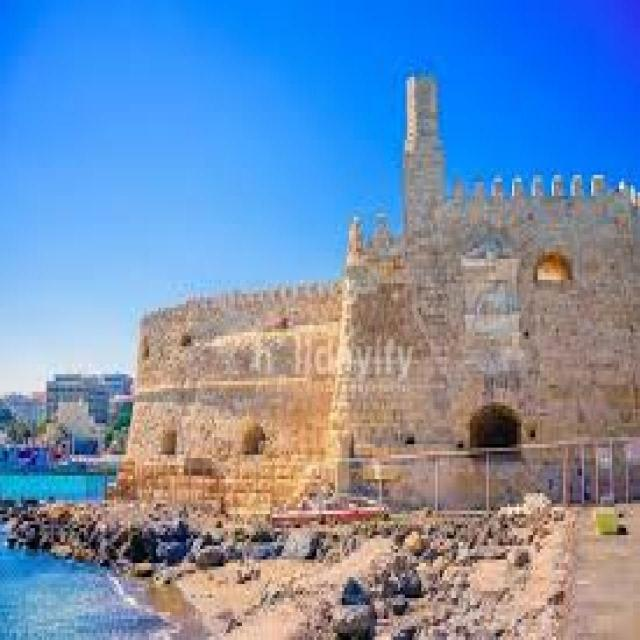Kules: (125, 69, 640, 510)
